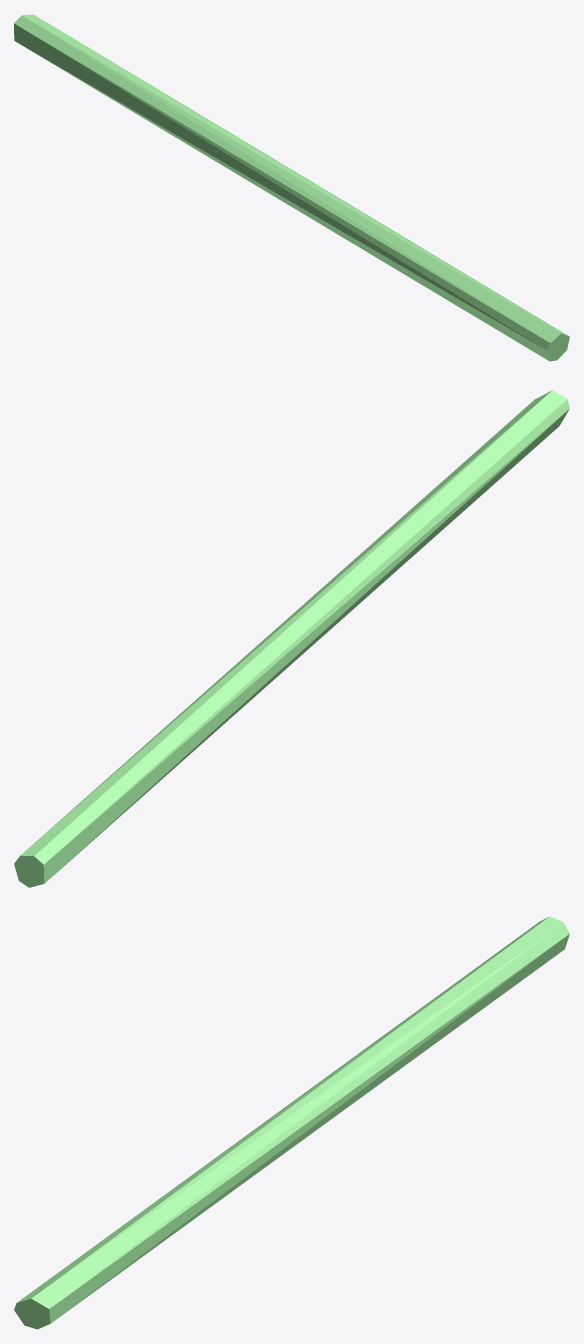
Rendered from dvkr_robot_L4_respondable_ECM_coll_3.dae.
3 views of the same model, one above another, from view 1: azimuth 30°, elevation 25°; view 2: azimuth 150°, elevation 25°; view 3: azimuth 330°, elevation 25° (orthographic). The views are drawn at different scales.
Visible parts, largest first — view 1: Node_0000023514CDA040; view 2: Node_0000023514CDA040; view 3: Node_0000023514CDA040.
Part boxes in pixels (x1,y1,x2,y2): Node_0000023514CDA040: [14, 14, 569, 361]; Node_0000023514CDA040: [14, 390, 569, 887]; Node_0000023514CDA040: [14, 916, 569, 1329].
Bounding box in the file's own units: 0.0261 × 0.0273 × 0.3707.
